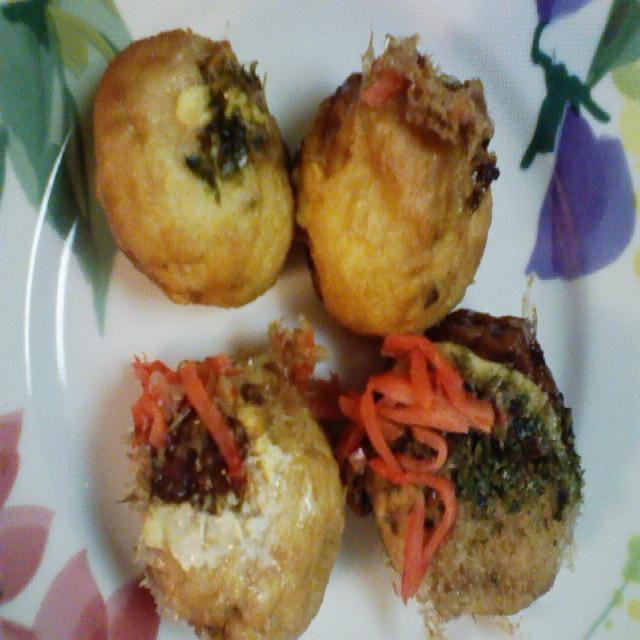炸货点心: (64, 21, 600, 611)
